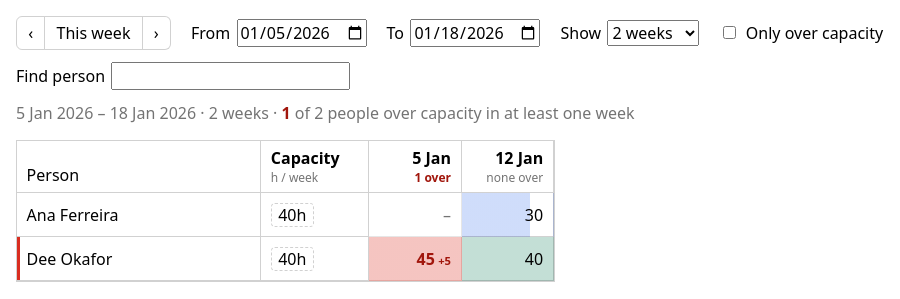
filters to people over capacity in any week shown
Expected: the column heading "Ana Ferreira" is shown, [17,193,261,237]
Click the checkbox labelled "Only over capacity" at x=730, y=33, box [724,26,736,39]
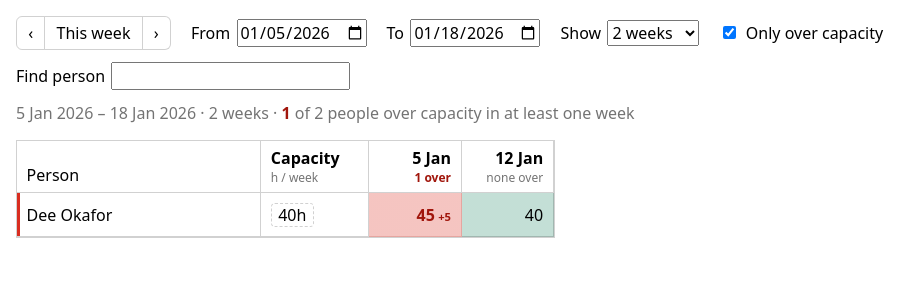
Expected: the column heading "Dee Okafor" is shown, [17,193,261,237]
Result: the column heading "Ana Ferreira" is gone
